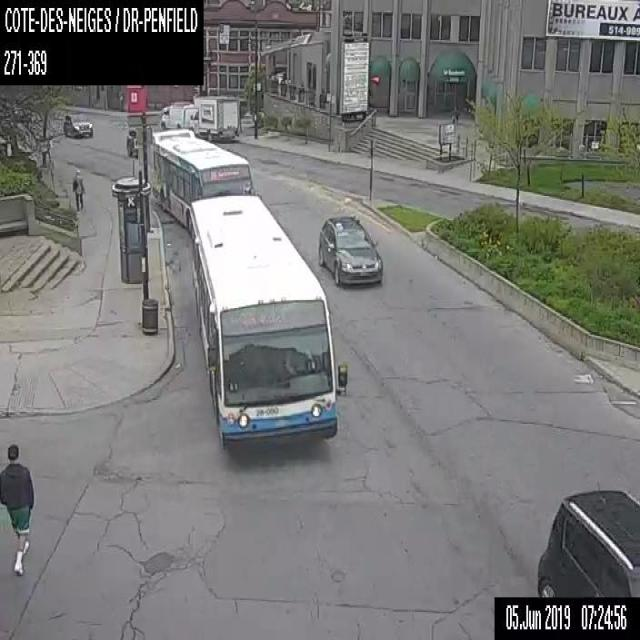bus: (188, 192, 348, 448), (152, 128, 252, 234)
pedestrian: (0, 443, 34, 576), (72, 168, 84, 211)
vehicle: (536, 487, 639, 596), (316, 213, 383, 287), (193, 94, 240, 139), (160, 100, 199, 134), (125, 124, 152, 156), (63, 112, 93, 137)
